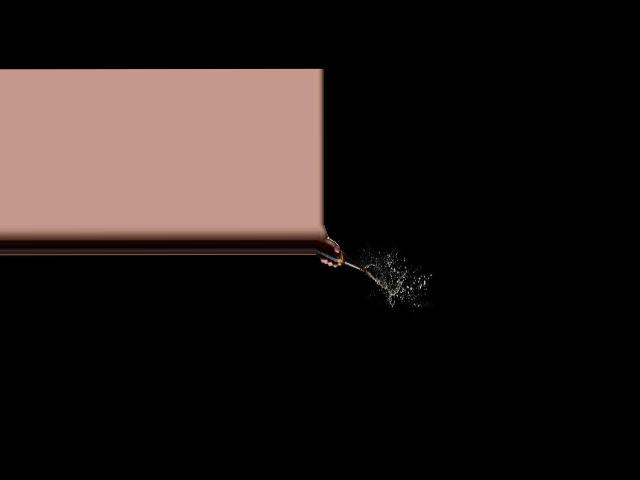beer: (316, 238, 364, 272)
